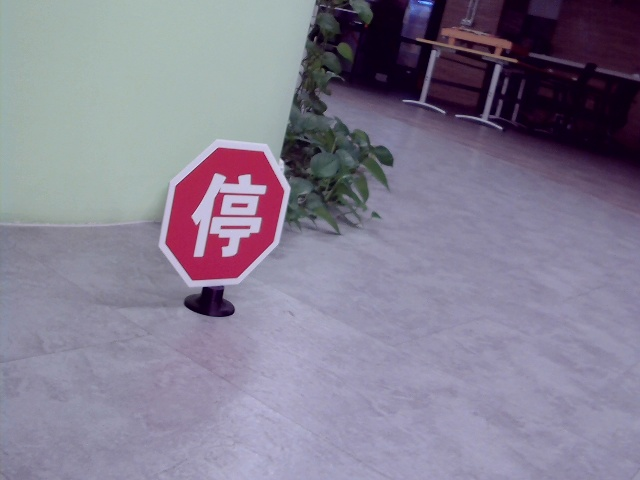stop: (196, 175, 258, 258)
